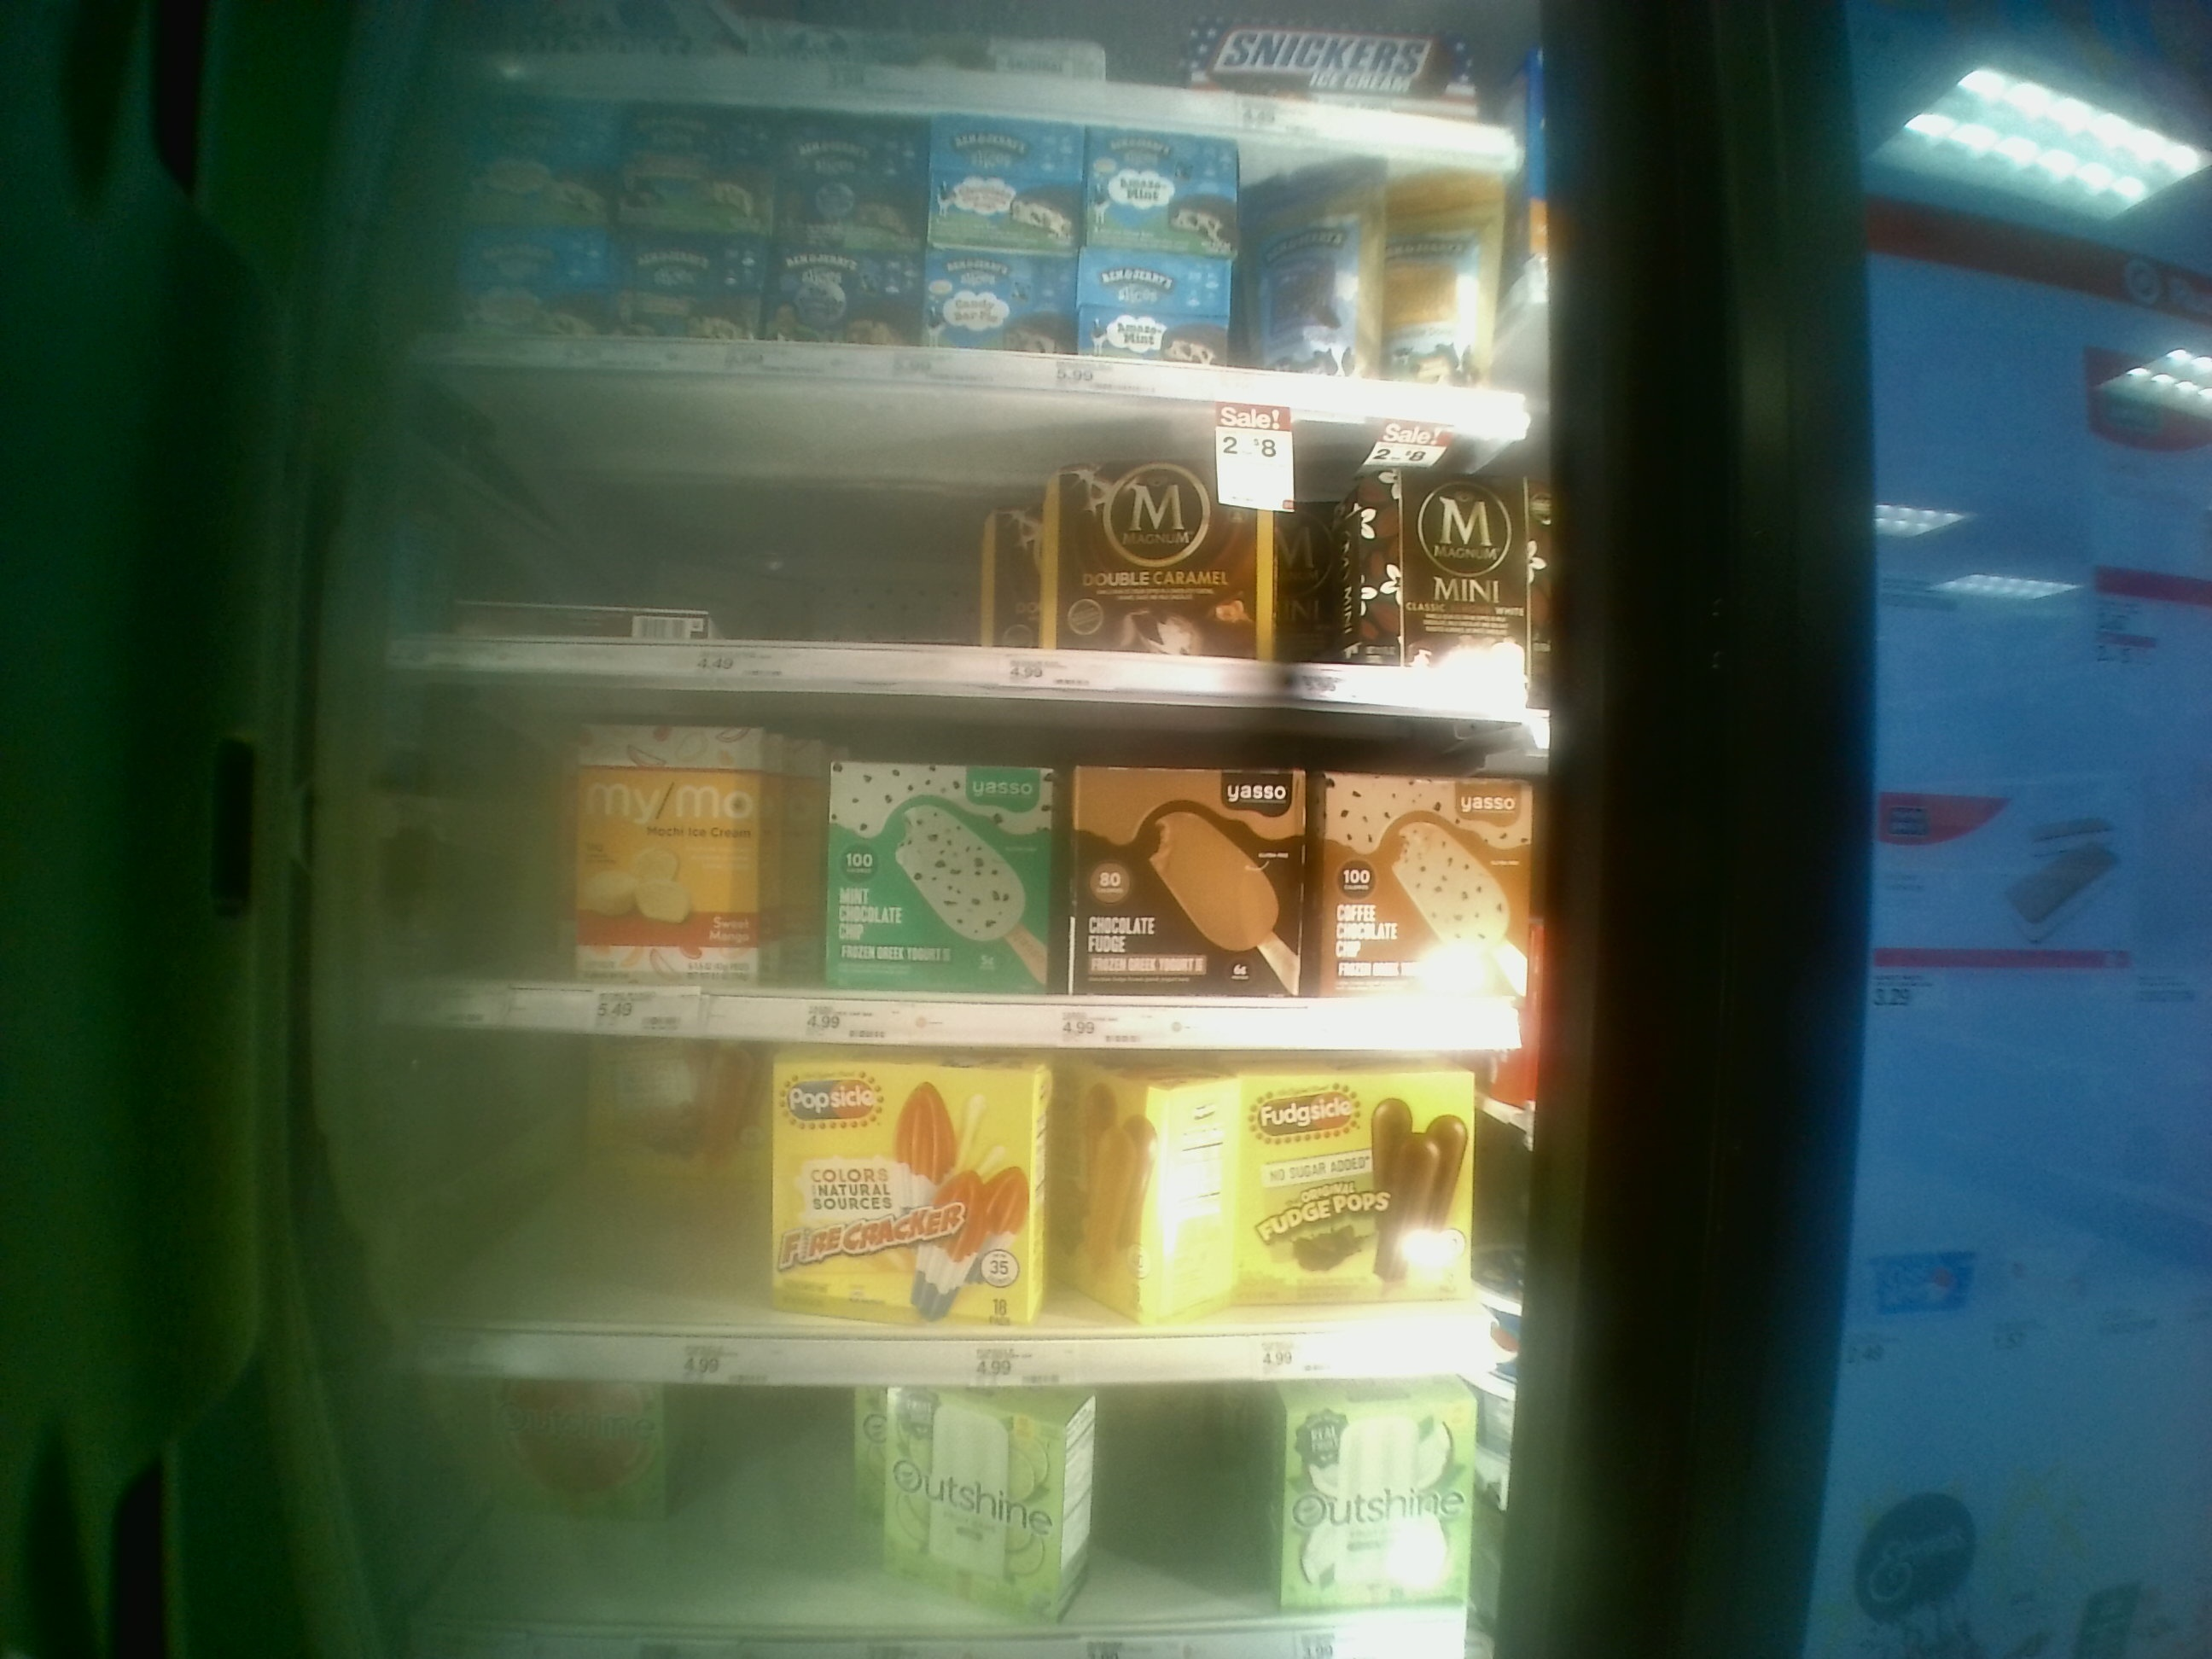ice-cream-shelf: (355, 683, 1536, 1044), (355, 1023, 1505, 1378), (380, 368, 1548, 683)
